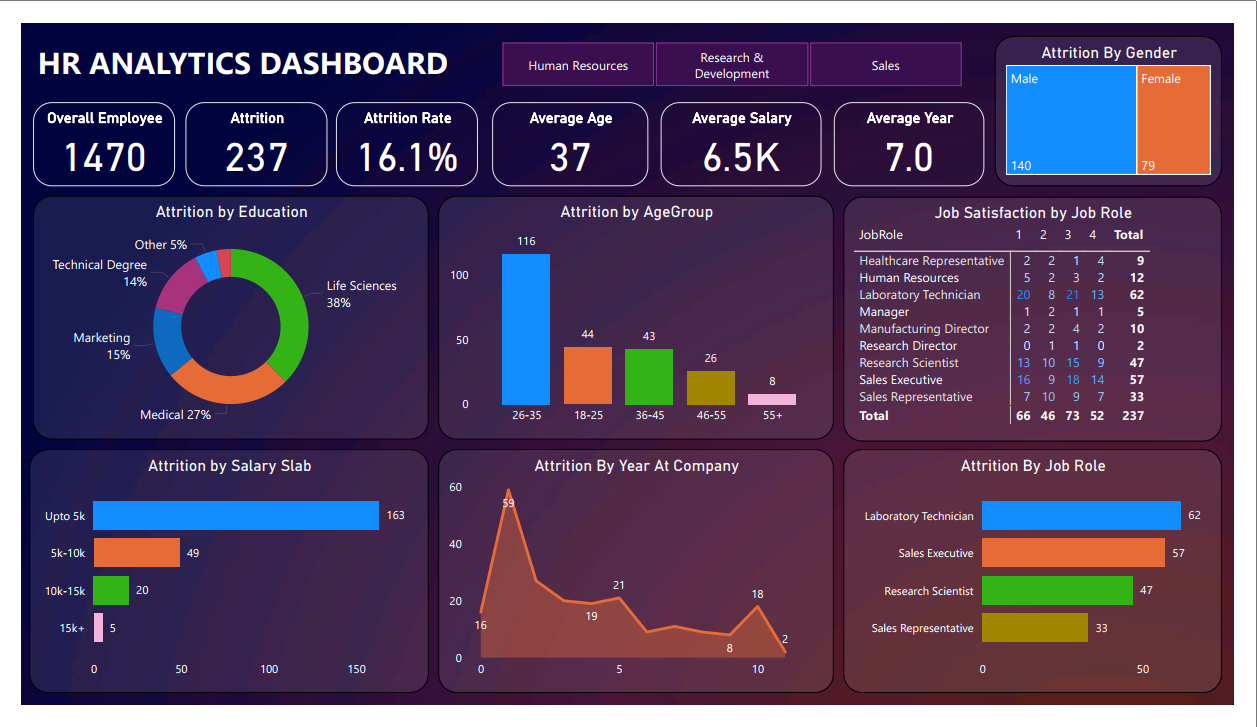

The dashboard page shown, as its layout file describes it:
{"tool":"powerbi","page":{"name":"Page 1","canvas":[1280,720],"ordinal":0},"visuals":[{"type":"card","title":"Overall Employee","fields":{"Values":["CountNonNull(HR_Analytics.EmpID)"]},"box":[11.7,83.3,150,88.3],"z":0},{"type":"card","title":"Attrition","fields":{"Values":["Sum(HR_Analytics.AttritionCount)"]},"box":[173.3,83.3,150,88.3],"z":1000},{"type":"card","title":"Attrition Rate","fields":{"Values":["HR_Analytics.AttritionRate"]},"box":[331.7,83.3,150,88.3],"z":2000},{"type":"card","title":"Average Age","fields":{"Values":["Avg(HR_Analytics.Age)"]},"box":[496.7,83.3,165,88.3],"z":3000},{"type":"card","title":"Average Salary","fields":{"Values":["Avg(HR_Analytics.MonthlyIncome)"]},"box":[675,83.3,170,88.3],"z":4000},{"type":"card","title":"Average Year","fields":{"Values":["Avg(HR_Analytics.YearsAtCompany)"]},"box":[858.3,83.3,158.3,88.3],"z":5000},{"type":"donutChart","title":"Attrition by Education","fields":{"Category":["HR_Analytics.EducationField"],"Y":["Sum(HR_Analytics.AttritionCount)"]},"box":[11.7,181.7,418.3,258.3],"z":6000},{"type":"columnChart","title":"Attrition by AgeGroup","fields":{"Category":["HR_Analytics.AgeGroup"],"Y":["Sum(HR_Analytics.AttritionCount)"]},"box":[440,181.7,418.3,258.3],"z":7000},{"type":"pivotTable","title":"Job Satisfaction by Job Role","fields":{"Rows":["HR_Analytics.JobRole"],"Columns":["HR_Analytics.JobSatisfaction"],"Values":["Sum(HR_Analytics.AttritionCount)"]},"box":[868.3,183.3,400,258.3],"z":8000},{"type":"clusteredBarChart","title":"Attrition by Salary Slab","fields":{"Category":["HR_Analytics.SalarySlab"],"Y":["Sum(HR_Analytics.AttritionCount)"]},"box":[8.3,450,421.7,258.3],"z":9000},{"type":"clusteredBarChart","title":"Attrition By Job Role","fields":{"Category":["HR_Analytics.JobRole"],"Y":["Sum(HR_Analytics.AttritionCount)"]},"box":[868.3,450,400,258.3],"z":10000},{"type":"areaChart","title":"Attrition By Year At Company","fields":{"Category":["HR_Analytics.YearsAtCompany"],"Y":["Sum(HR_Analytics.AttritionCount)"]},"box":[440,450,418.3,258.3],"z":11000},{"type":"treemap","title":"Attrition By Gender","fields":{"Group":["HR_Analytics.Gender"],"Values":["Sum(HR_Analytics.AttritionCount)"]},"box":[1028.3,13.3,240,158.3],"z":12000},{"type":"slicer","fields":{"Values":["HR_Analytics.Department"]},"box":[481.7,13.3,535,60],"z":13000},{"type":"textbox","box":[11.7,13.3,470,61.7],"z":14000}]}

Visuals, with their boxes in screenshot pixels (x1, y1, x2, y2), scaled from the page's 1280x720 canvas onto the 1257x727 screenshot:
"Overall Employee" card: 11 84 159 173
"Attrition" card: 170 84 317 173
"Attrition Rate" card: 326 84 473 173
"Average Age" card: 488 84 650 173
"Average Salary" card: 663 84 830 173
"Average Year" card: 843 84 998 173
"Attrition by Education" donutChart: 11 183 422 444
"Attrition by AgeGroup" columnChart: 432 183 843 444
"Job Satisfaction by Job Role" pivotTable: 853 185 1246 446
"Attrition by Salary Slab" clusteredBarChart: 8 454 422 715
"Attrition By Job Role" clusteredBarChart: 853 454 1246 715
"Attrition By Year At Company" areaChart: 432 454 843 715
"Attrition By Gender" treemap: 1010 13 1246 173
slicer - HR_Analytics.Department: 473 13 998 74
textbox: 11 13 473 76
